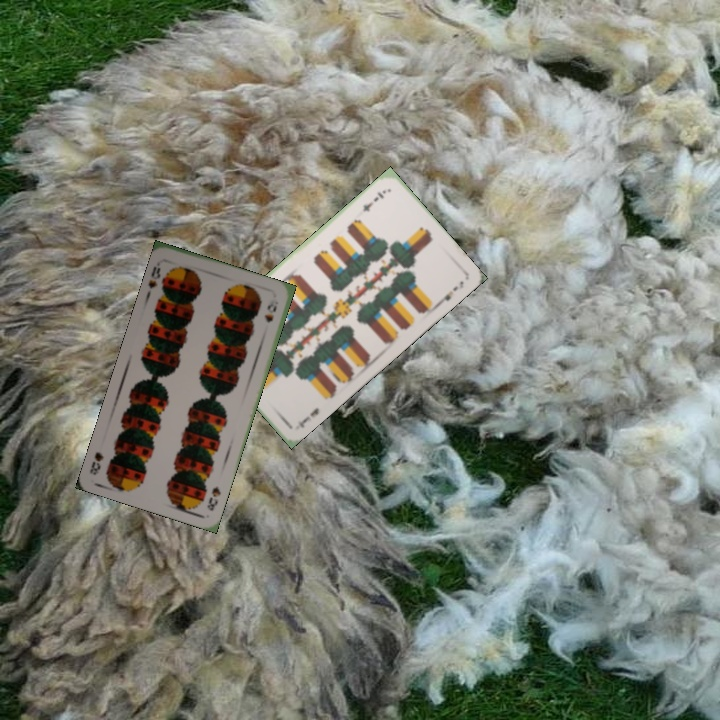E7: (358, 186, 389, 214), (294, 404, 321, 430)
S8: (144, 257, 163, 291), (203, 482, 223, 514)
